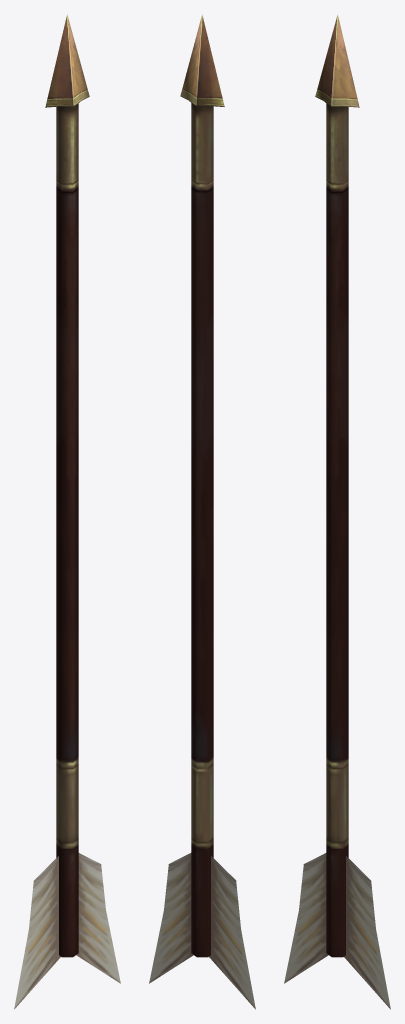
File: qixiongwushuang_jian.FBX
The picture shows the model from 3 angles, left to right: view 1: azimuth 30°, elevation 25°; view 2: azimuth 150°, elevation 25°; view 3: azimuth 330°, elevation 25°; orthographic projection.
Visible parts, largest first — view 1: qixiongwushuang_jian; view 2: qixiongwushuang_jian; view 3: qixiongwushuang_jian.
Boxes of the visible parts, x1=… form: qixiongwushuang_jian: x1=14, y1=14, x2=120, y2=1009; qixiongwushuang_jian: x1=149, y1=14, x2=255, y2=1009; qixiongwushuang_jian: x1=284, y1=14, x2=390, y2=1009.
Bounding box in the file's own units: 0.2172 × 1.91 × 0.0458.
